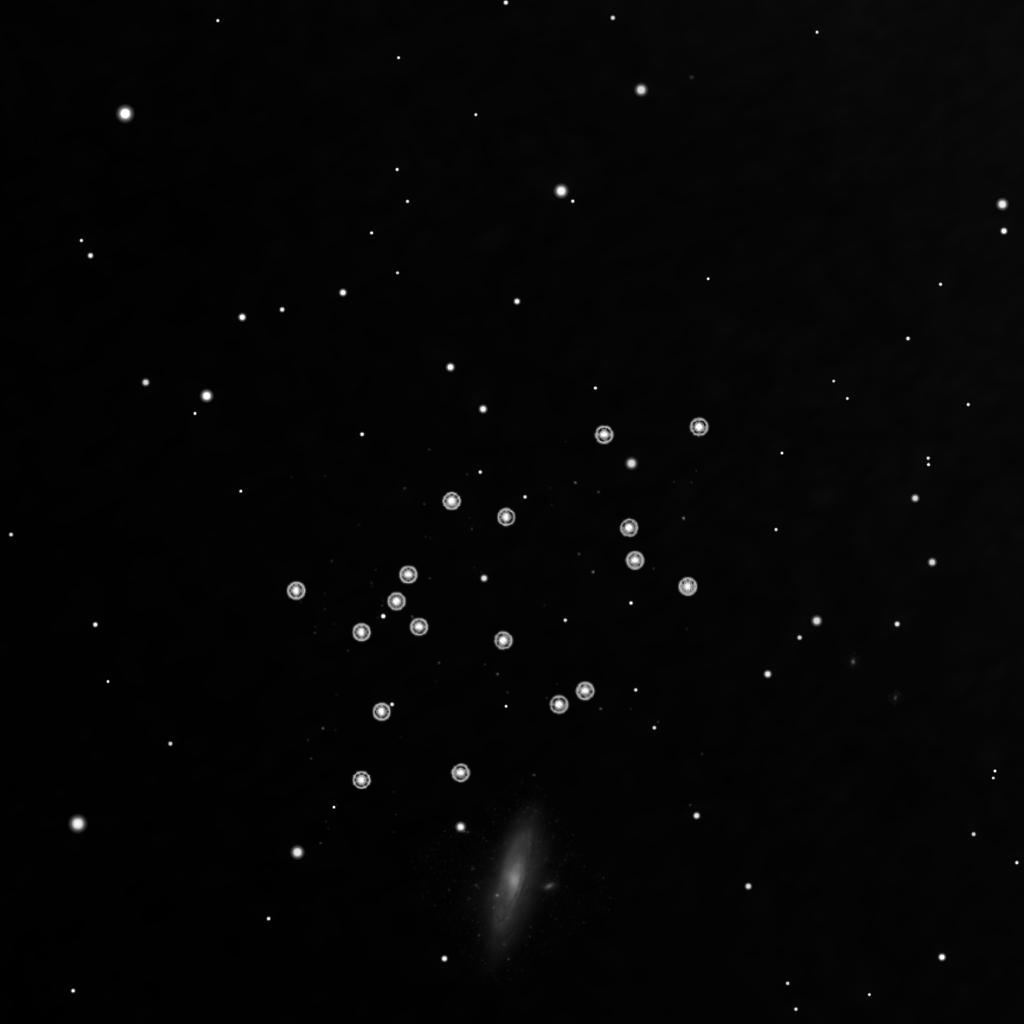canis_major: (341, 490, 522, 649)
